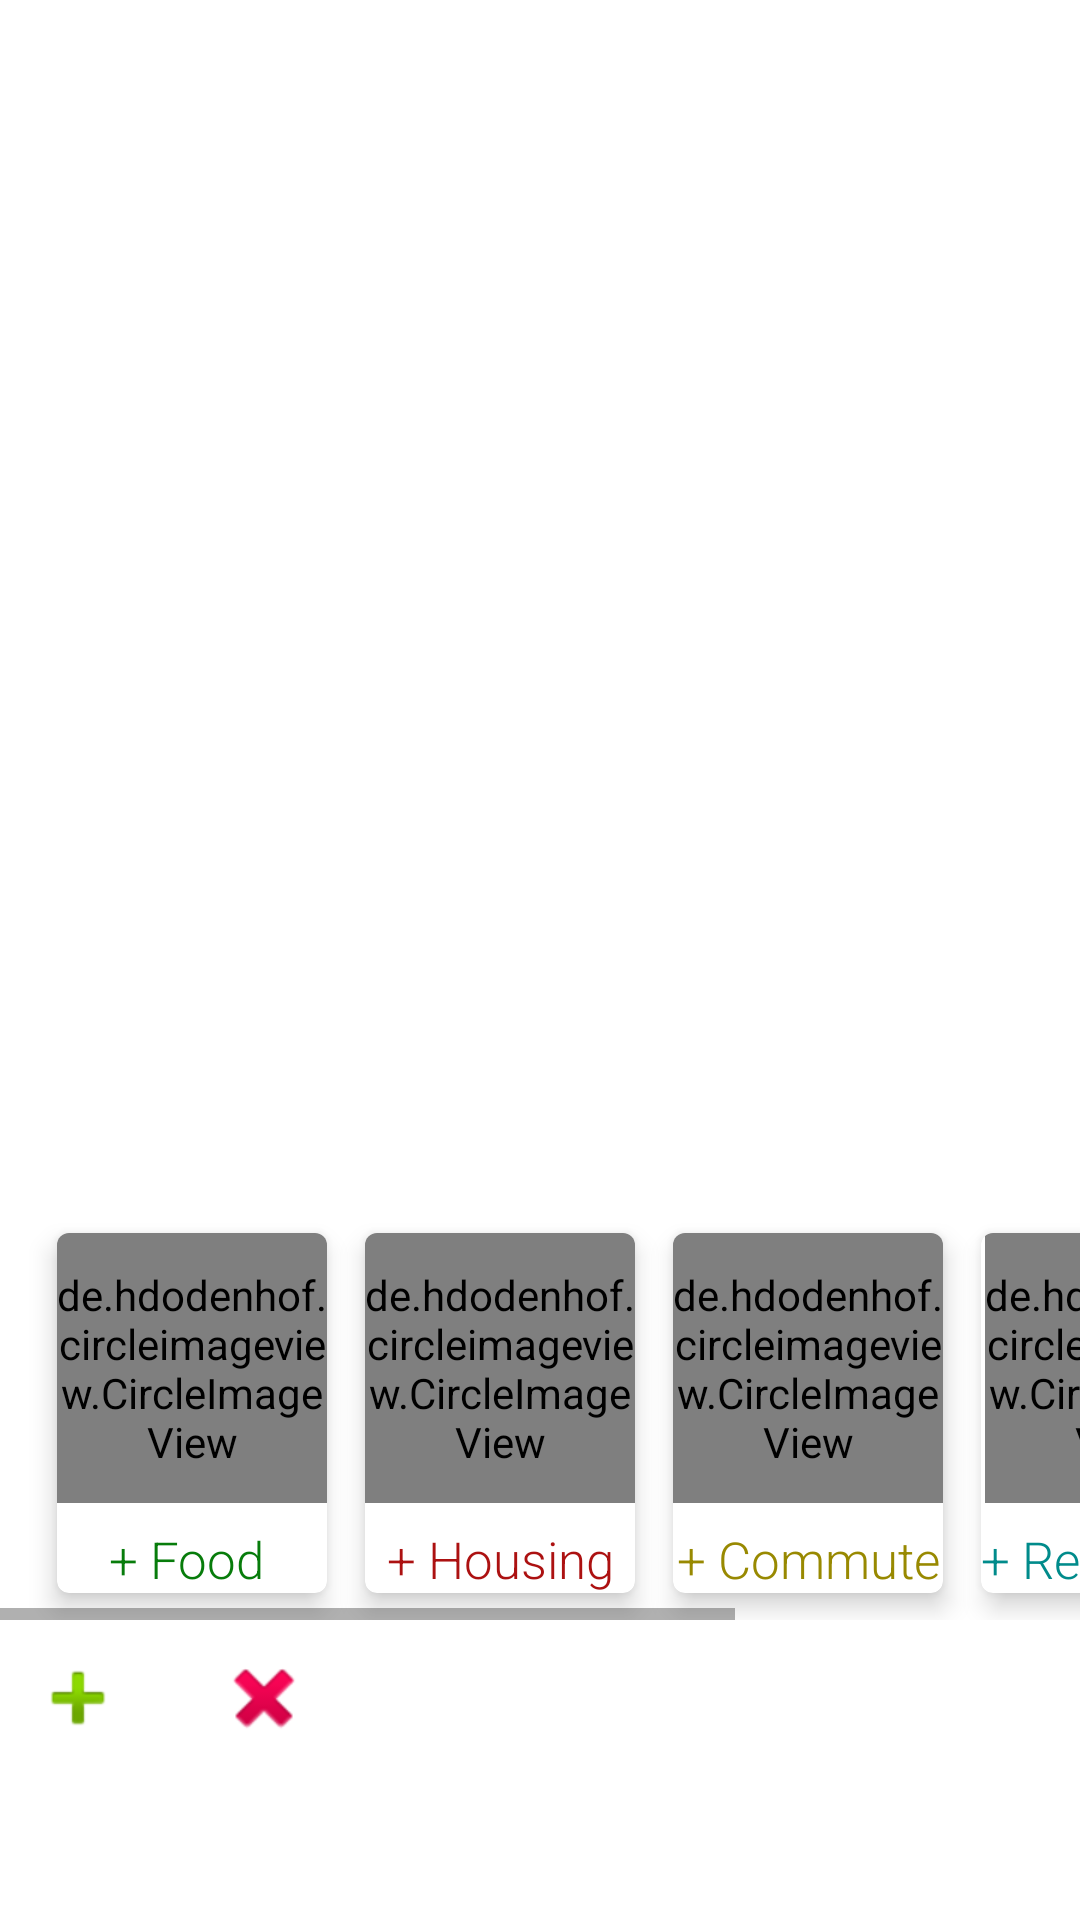

Icon bounding boxes for this 1080w x 1920h phone screenshot, format region(x1, y1, x2, y2):
add: region(51, 1671, 105, 1725)
delete: region(233, 1669, 295, 1728)
